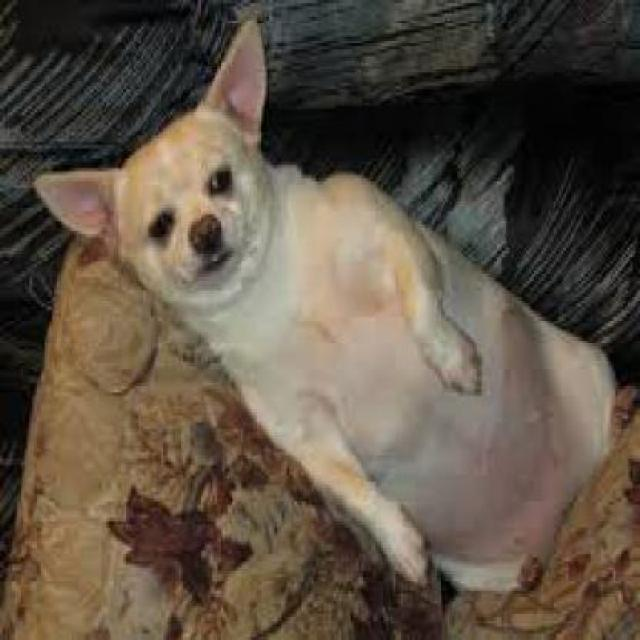Dog: (32, 17, 637, 597)
